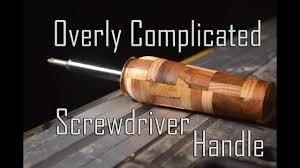screwdriver: (44, 55, 121, 79)
